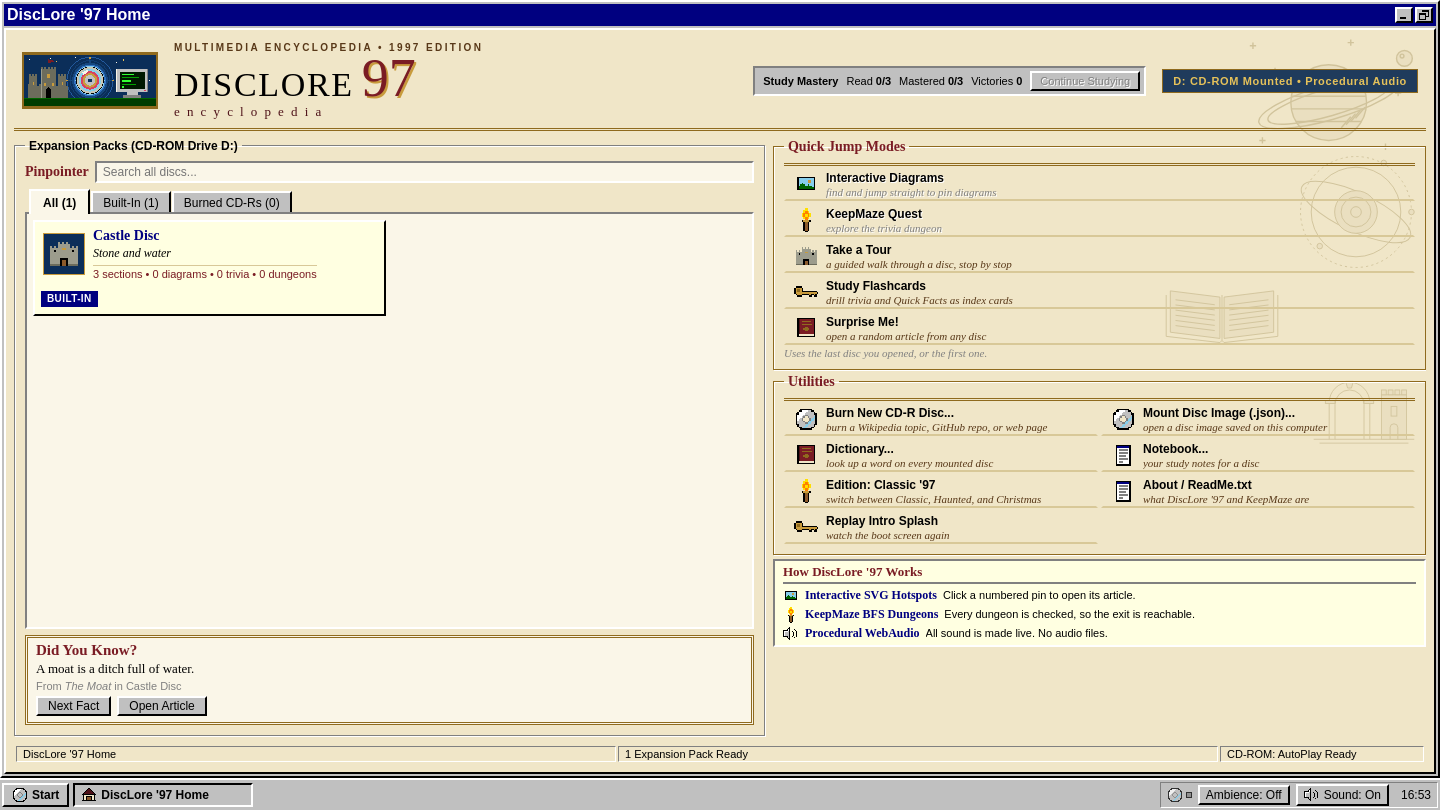
Dictionary › falls back to the disc matches when the word is not found or the network fails
The image size is (1440, 810).
Click the text "Castle Disc": (126, 236) [93,228,160,244]
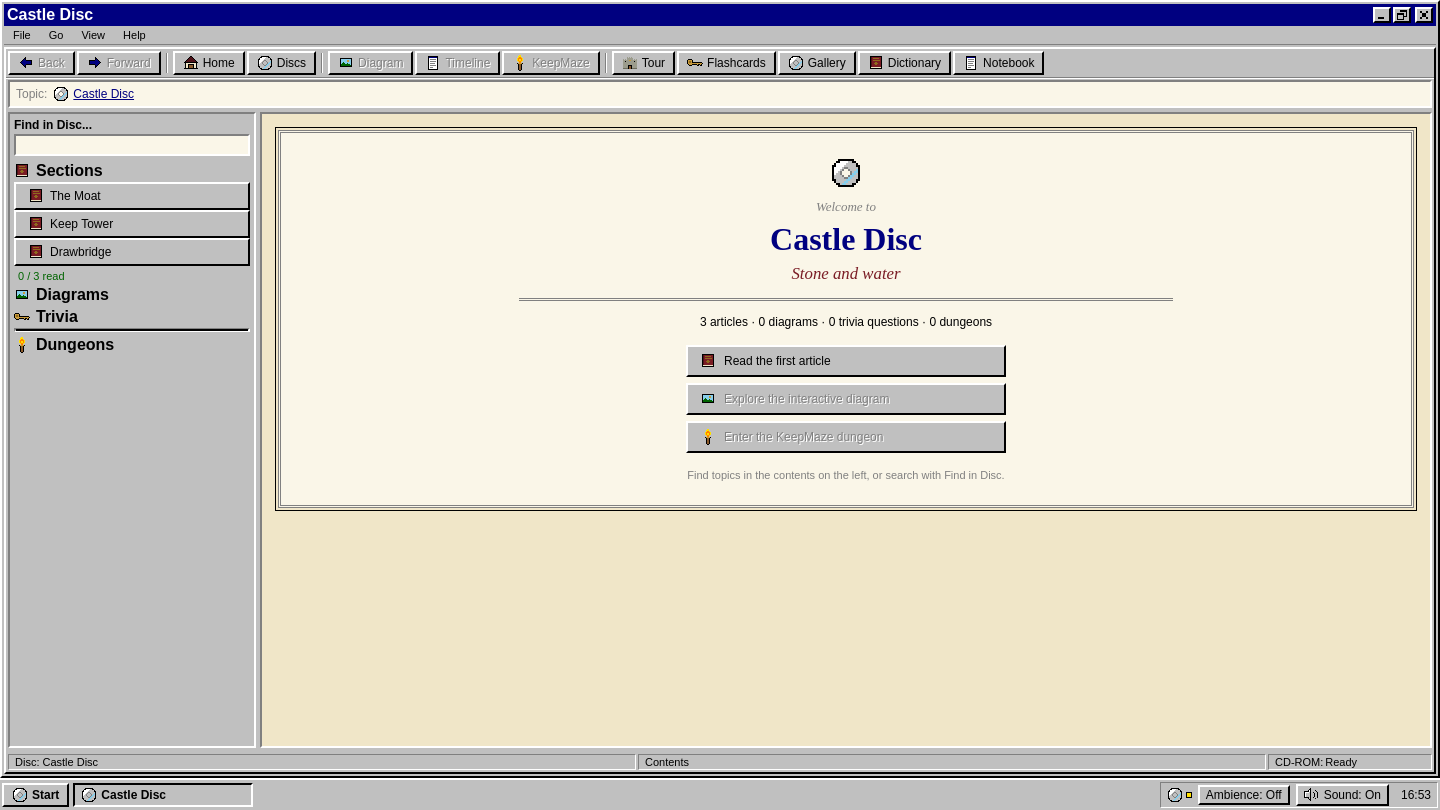
Click the button "Dictionary": (904, 63) [858,51,951,75]
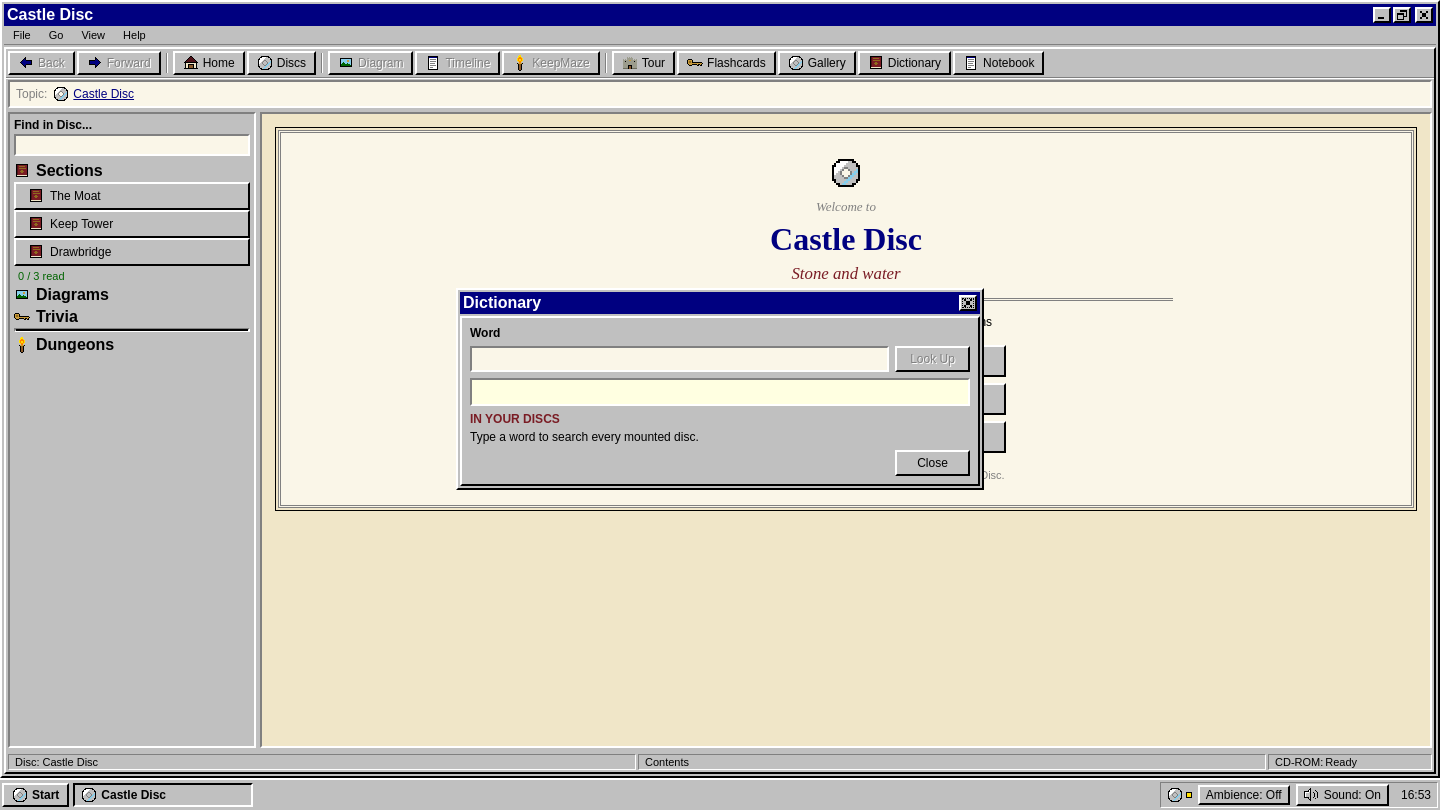
In the field labelled "Word": (680, 359) [470,346,889,372], type "moat"
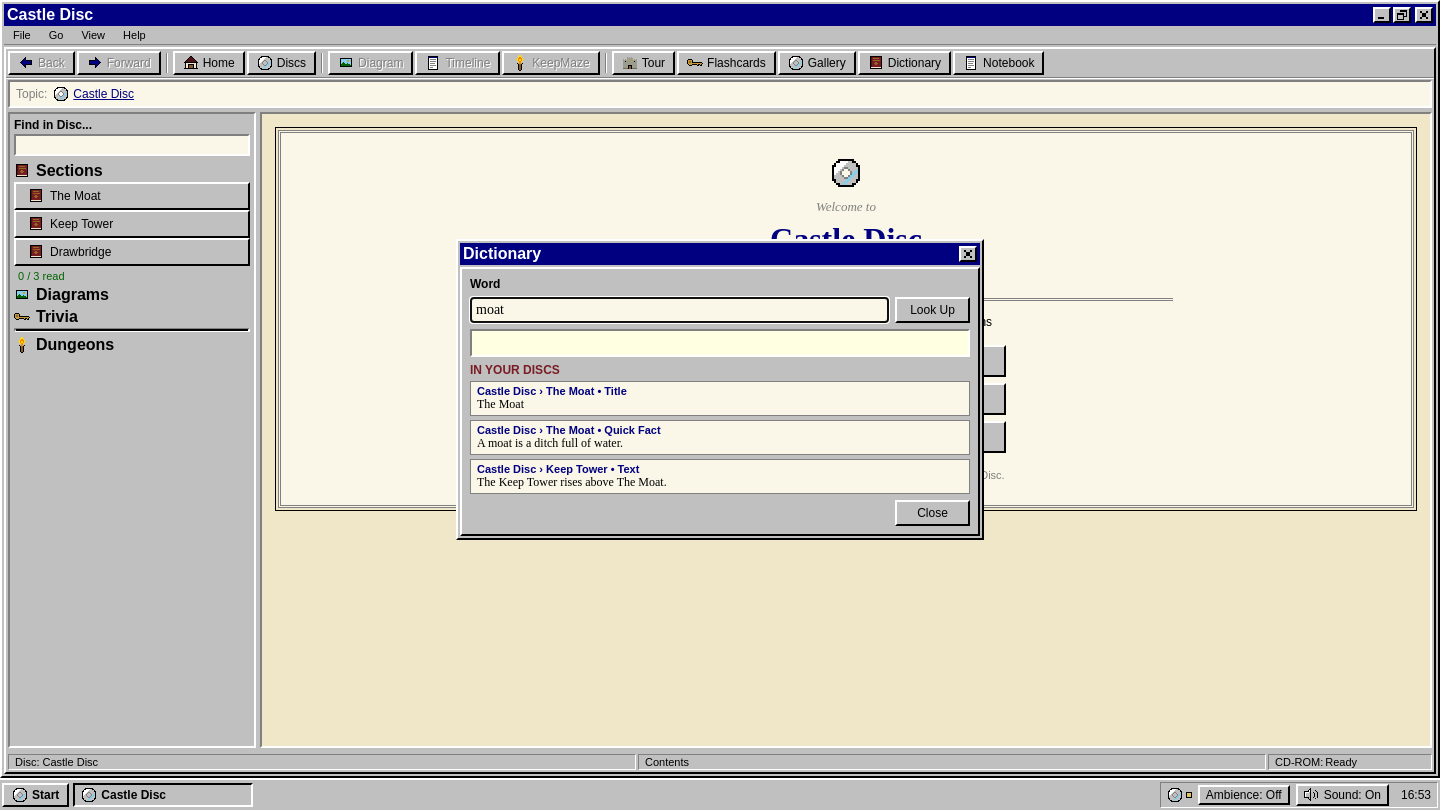
Click the button "Look Up": (932, 310) [895,296,970,322]
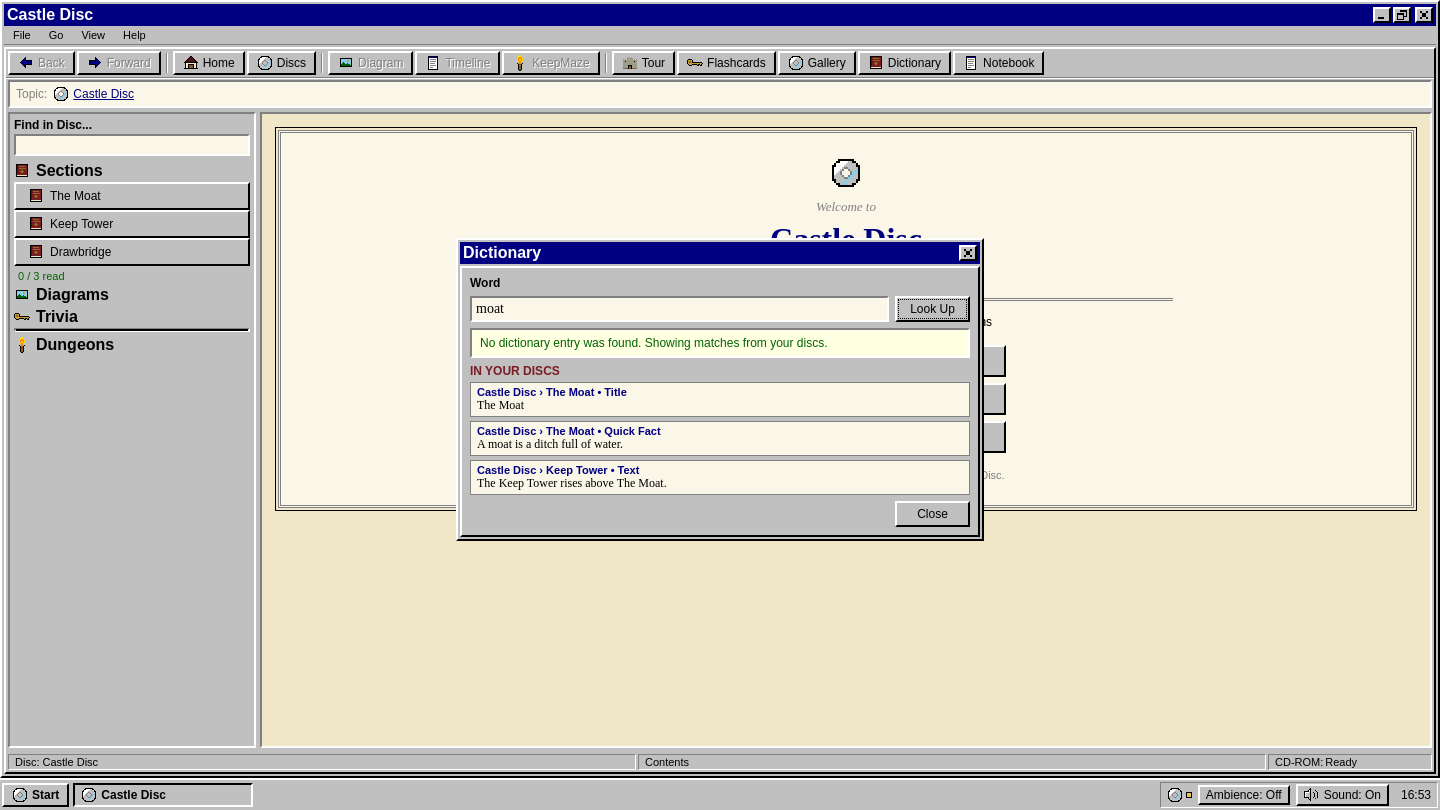
Expected: the text "No dictionary entry was found. Showing matches" is shown, [480,336,828,350]
Click the button "Look Up": (932, 308) [895,296,970,322]
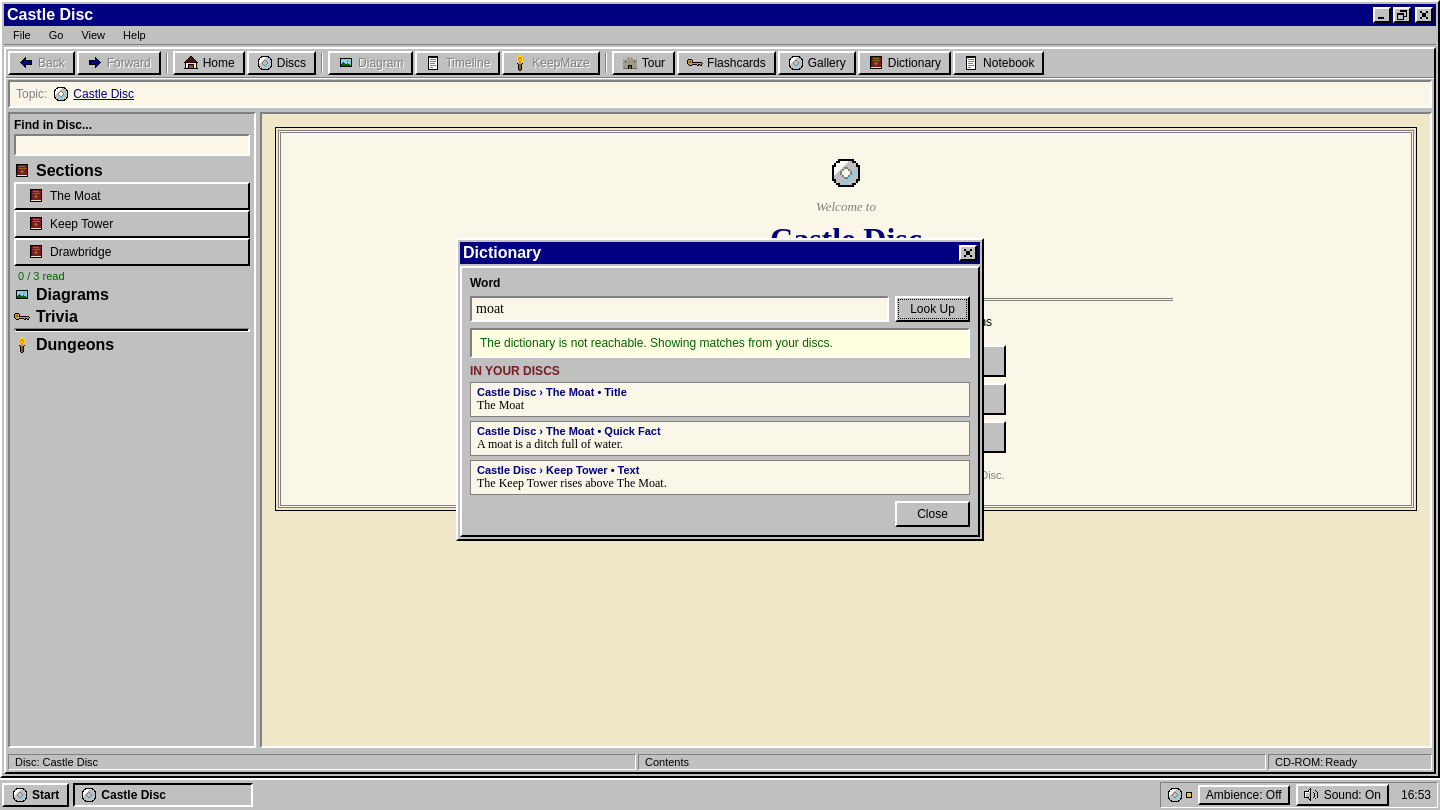
Expected: the text "not reachable. Showing matches" is shown, [480,336,833,350]
